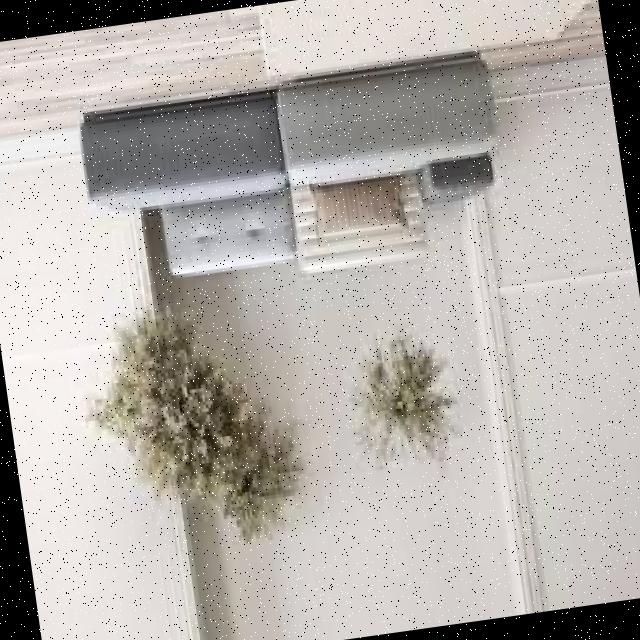Sofa: (45, 18, 557, 337)
